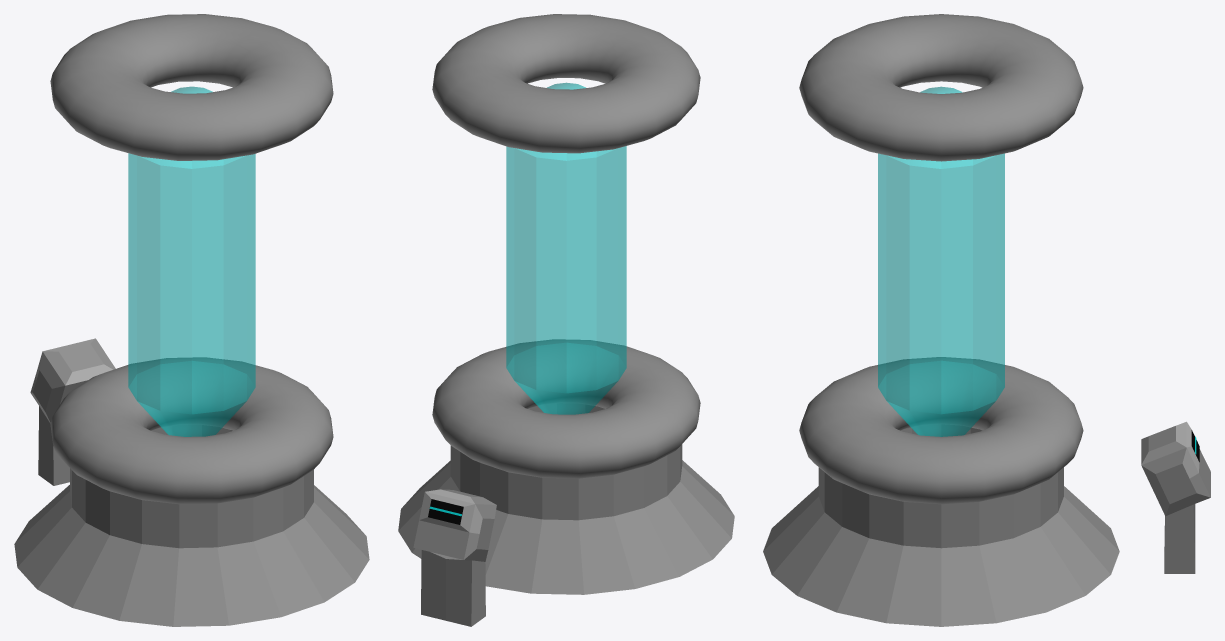
The model's file is Capsule Chamber .fbx.
3 renders of one model, left to right at view 1: azimuth 30°, elevation 25°; view 2: azimuth 150°, elevation 25°; view 3: azimuth 270°, elevation 25°, orthographic. The views are drawn at different scales.
Parts seen in each view (by area): view 1: pTorus2; view 2: pTorus2; view 3: pTorus2.
Part boxes in pixels (x1=…): pTorus2: x1=14, y1=14, x2=369, y2=626; pTorus2: x1=398, y1=14, x2=734, y2=626; pTorus2: x1=763, y1=14, x2=1210, y2=626.
Bounding box in the file's own units: 21.01 × 32.52 × 26.38.
